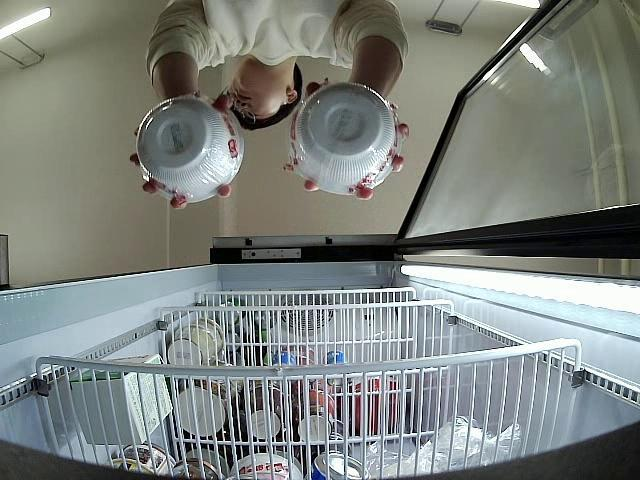09_yukGaeJang: (291, 82, 403, 193), (138, 97, 244, 205)
